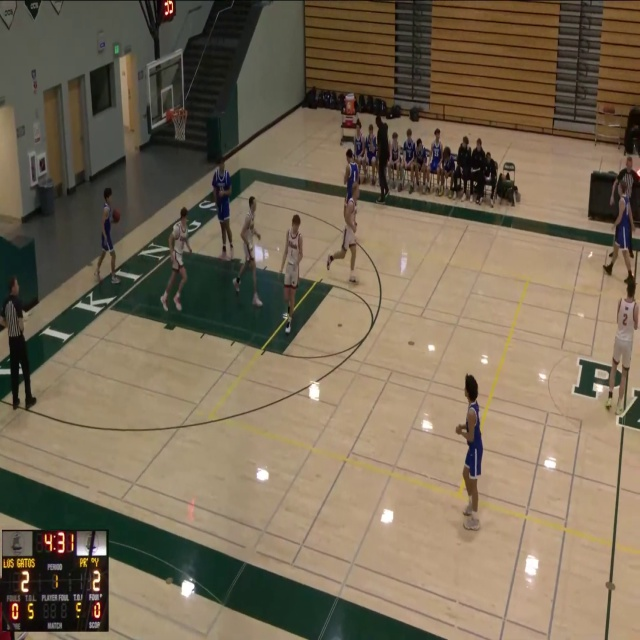Basketball: (111, 209, 120, 223)
